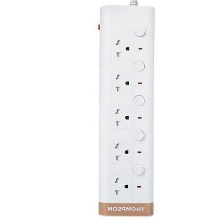three_eye_plug: (93, 1, 158, 220)
